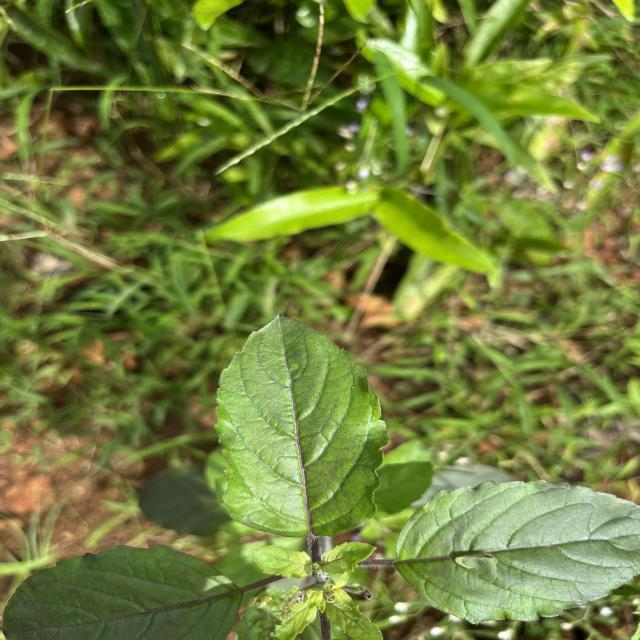Ocimum tenuiflorum: (211, 312, 393, 541), (391, 479, 640, 628)
